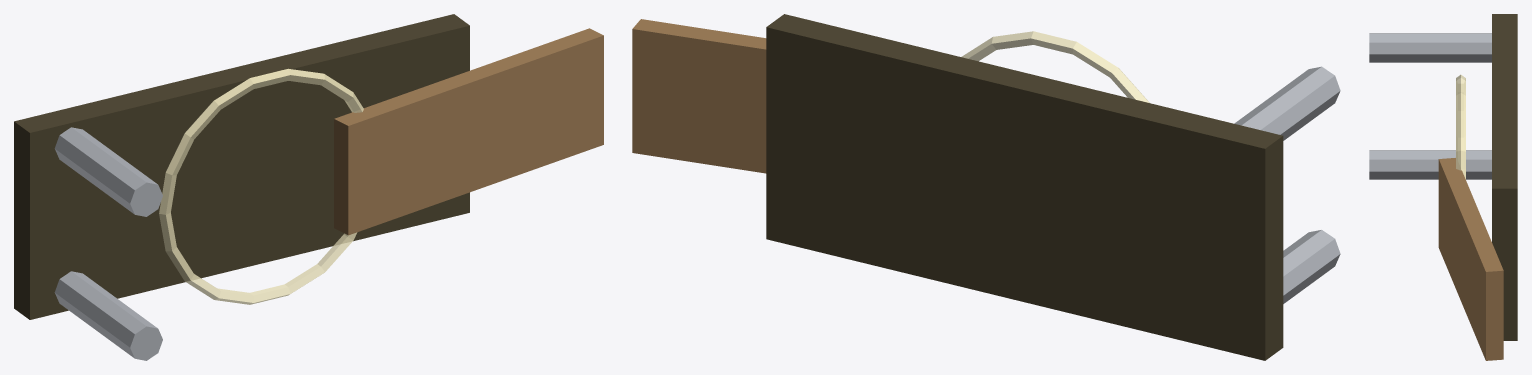
Rendered from 10_skyship_dock.glb.
The picture shows the model from 3 angles, left to right: view 1: azimuth 30°, elevation 25°; view 2: azimuth 150°, elevation 25°; view 3: azimuth 270°, elevation 25°; orthographic projection. The views are drawn at different scales.
Visible parts, largest first — view 1: dock_platform, boarding_ramp, dock_marker_ring, mooring_post_l, mooring_post_r; view 2: dock_platform, boarding_ramp, mooring_post_r, dock_marker_ring, mooring_post_l; view 3: boarding_ramp, dock_platform, mooring_post_r, mooring_post_l, dock_marker_ring.
Boxes of the visible parts, x1=… form: dock_platform: x1=14, y1=14, x2=469, y2=319; boarding_ramp: x1=334, y1=28, x2=603, y2=235; dock_marker_ring: x1=159, y1=68, x2=363, y2=304; mooring_post_l: x1=54, y1=271, x2=162, y2=360; mooring_post_r: x1=54, y1=127, x2=162, y2=216; dock_platform: x1=766, y1=14, x2=1283, y2=360; boarding_ramp: x1=632, y1=19, x2=766, y2=173; mooring_post_r: x1=1234, y1=66, x2=1340, y2=140; dock_marker_ring: x1=961, y1=31, x2=1149, y2=102; mooring_post_l: x1=1283, y1=230, x2=1340, y2=303; boarding_ramp: x1=1438, y1=158, x2=1503, y2=360; dock_platform: x1=1492, y1=14, x2=1517, y2=340; mooring_post_r: x1=1369, y1=33, x2=1491, y2=62; mooring_post_l: x1=1369, y1=150, x2=1491, y2=179; dock_marker_ring: x1=1456, y1=74, x2=1465, y2=179.
Bounding box in the file's own units: 1.97 × 0.7485 × 0.5462.
